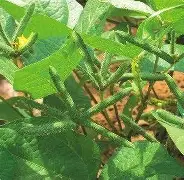crops: (0, 0, 181, 176)
